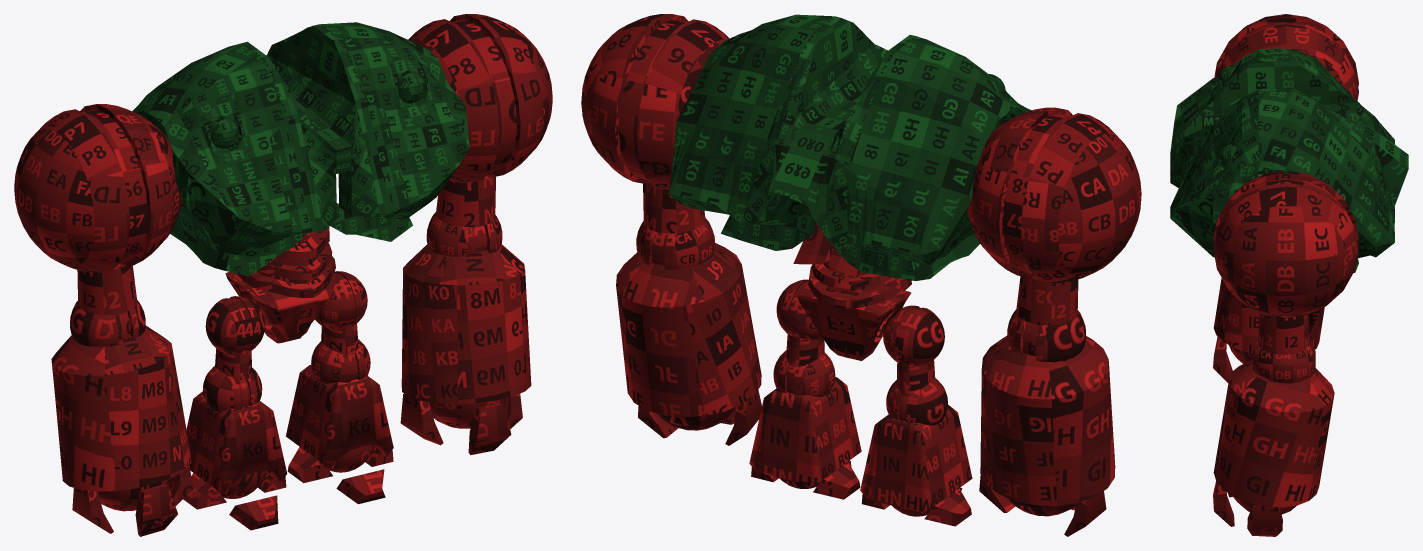
File: ROBOT_14.fbx
3 views of the same model, side by side, from view 1: azimuth 30°, elevation 25°; view 2: azimuth 150°, elevation 25°; view 3: azimuth 270°, elevation 25° (orthographic). The views are drawn at different scales.
Visible parts, largest first — view 1: polySurface15, TORSO_UV_5:pCylinder4; view 2: polySurface15, TORSO_UV_5:pCylinder4; view 3: polySurface15, TORSO_UV_5:pCylinder4.
Boxes of the visible parts, bbox=[...] form: polySurface15: bbox=[14, 14, 552, 536]; TORSO_UV_5:pCylinder4: bbox=[132, 22, 469, 276]; polySurface15: bbox=[581, 14, 1141, 536]; TORSO_UV_5:pCylinder4: bbox=[668, 14, 1031, 280]; polySurface15: bbox=[1213, 14, 1358, 536]; TORSO_UV_5:pCylinder4: bbox=[1170, 48, 1408, 273].
Bounding box in the file's own units: 4.46 × 3.74 × 2.05.
2 materials, 2 textured.
